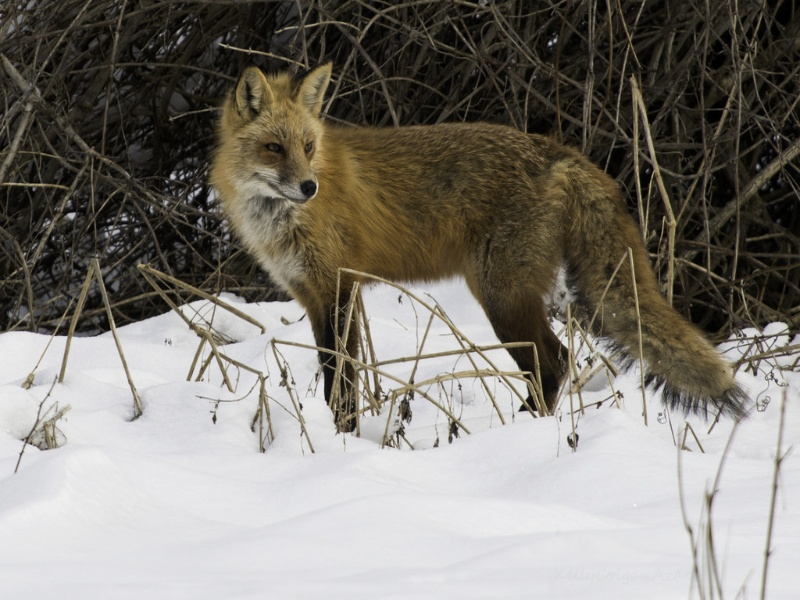fox: (213, 65, 753, 433)
